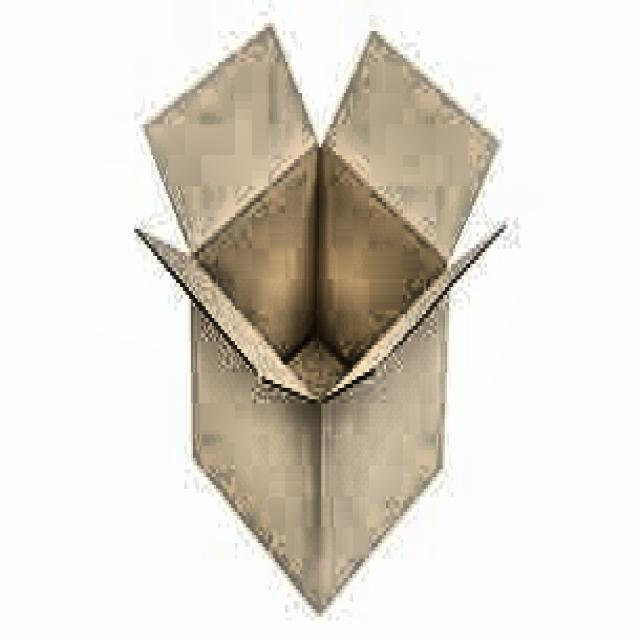cardboard: (132, 19, 506, 613)
